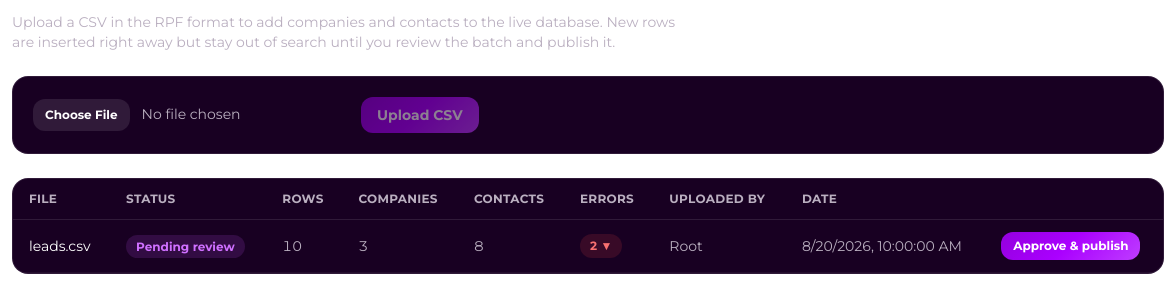
Test: AdminExtendDatabase › approves a batch and reflects the published state after refetch
Check: the text "Pending review" is shown, box [126, 235, 245, 258]
Click the button "Approve & publish". click: x=1071, y=246
box: [1001, 232, 1140, 260]
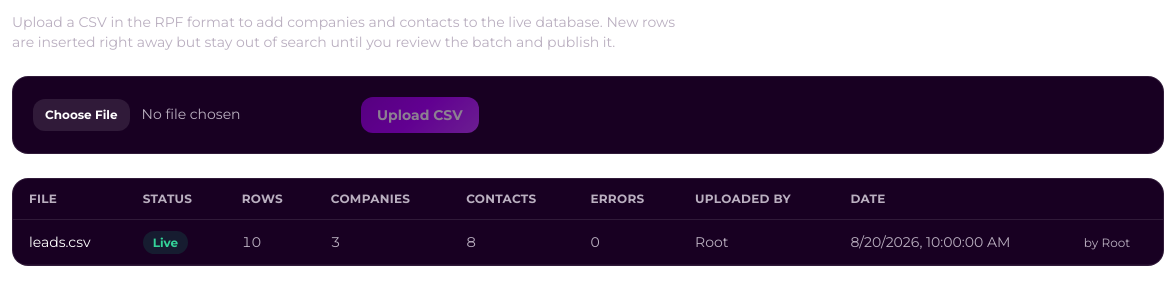
Check: the text "Live" is shown, box [143, 231, 188, 254]
